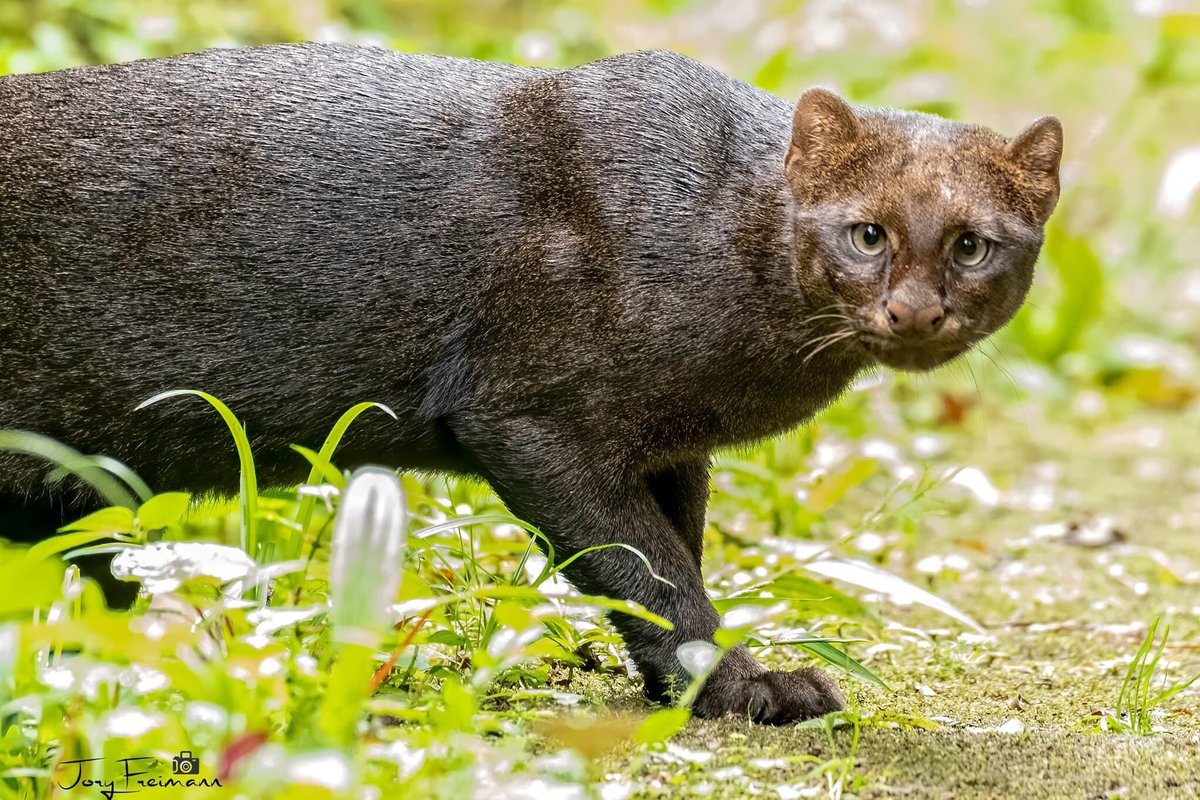Jaguarundi: (13, 12, 1081, 746)
